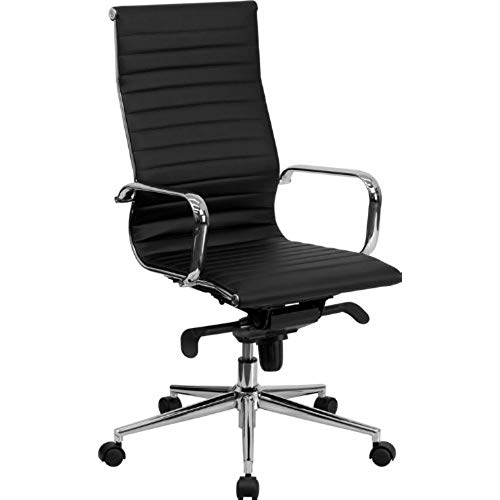chairs: (87, 4, 406, 500)
